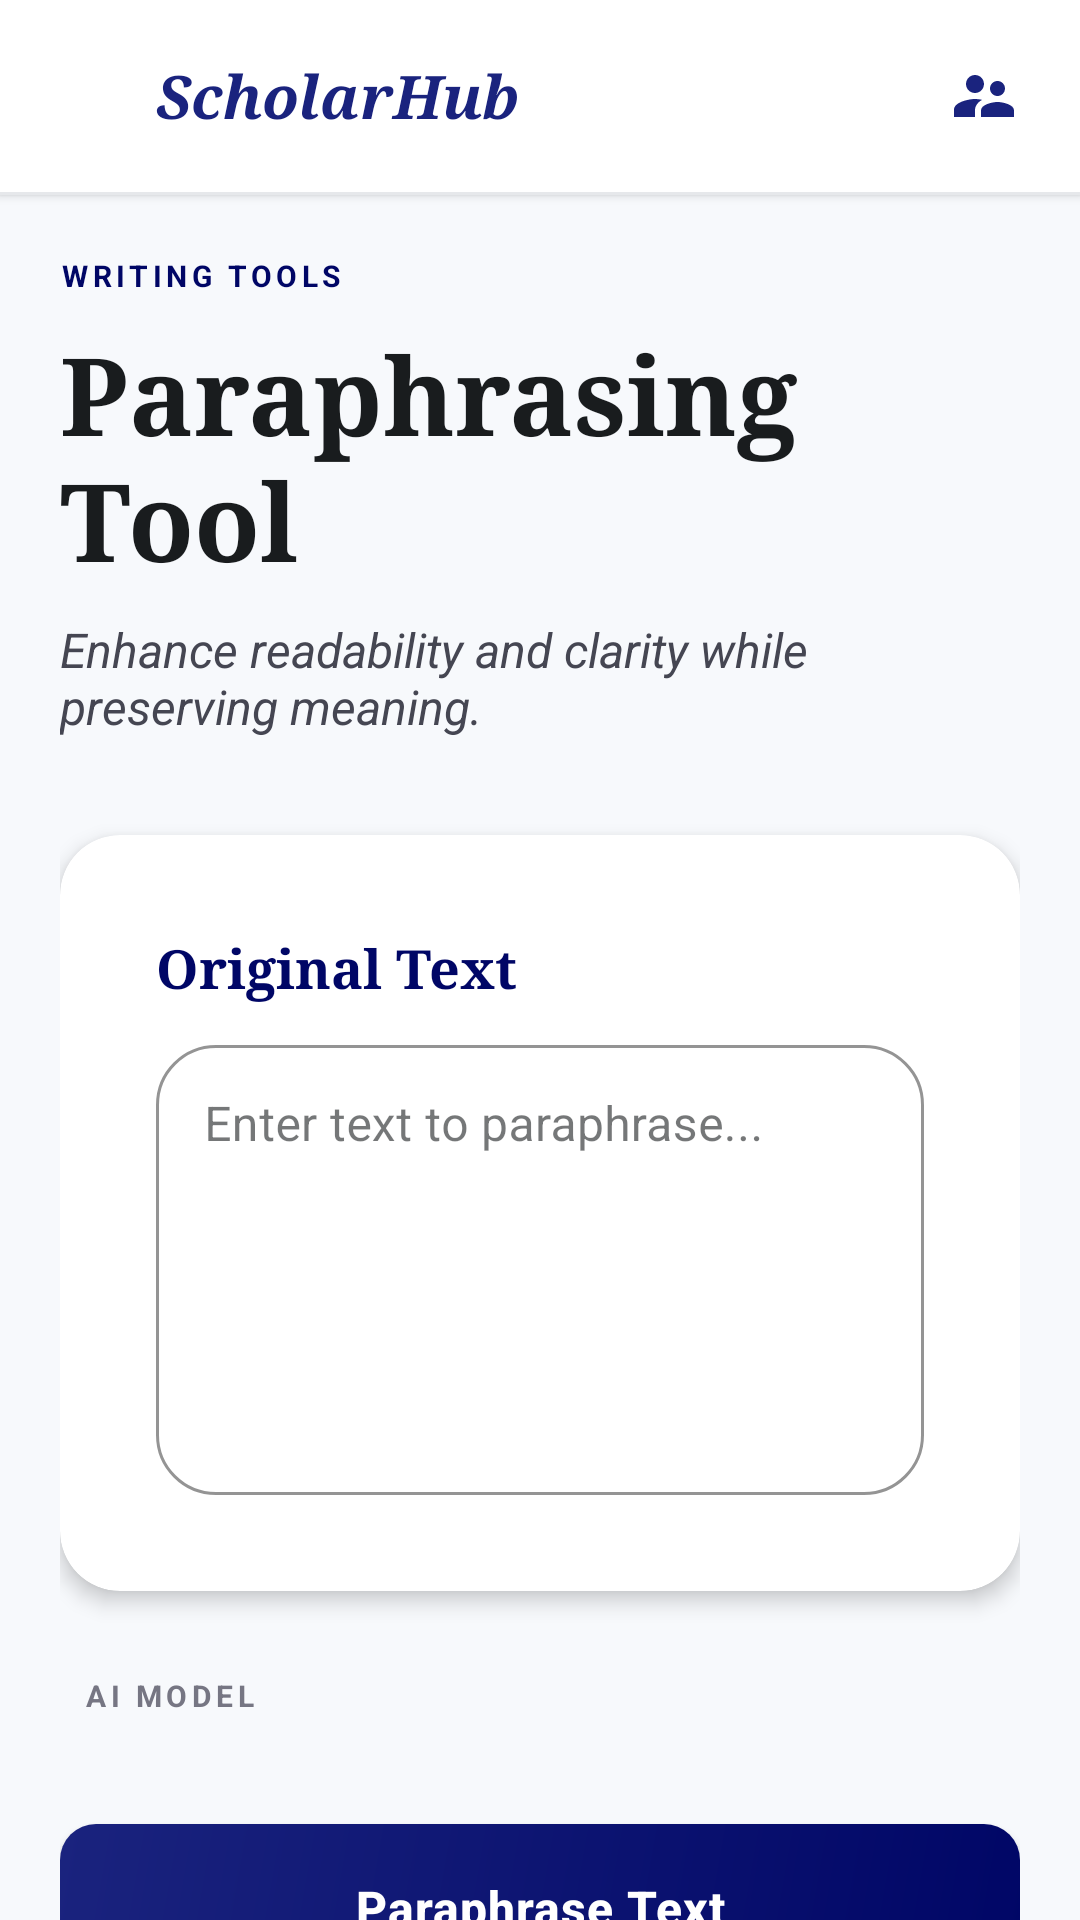

Icons on this 1080w x 1920h Android screen, each with the point to tap as point (x, y):
users: point (984, 96)
